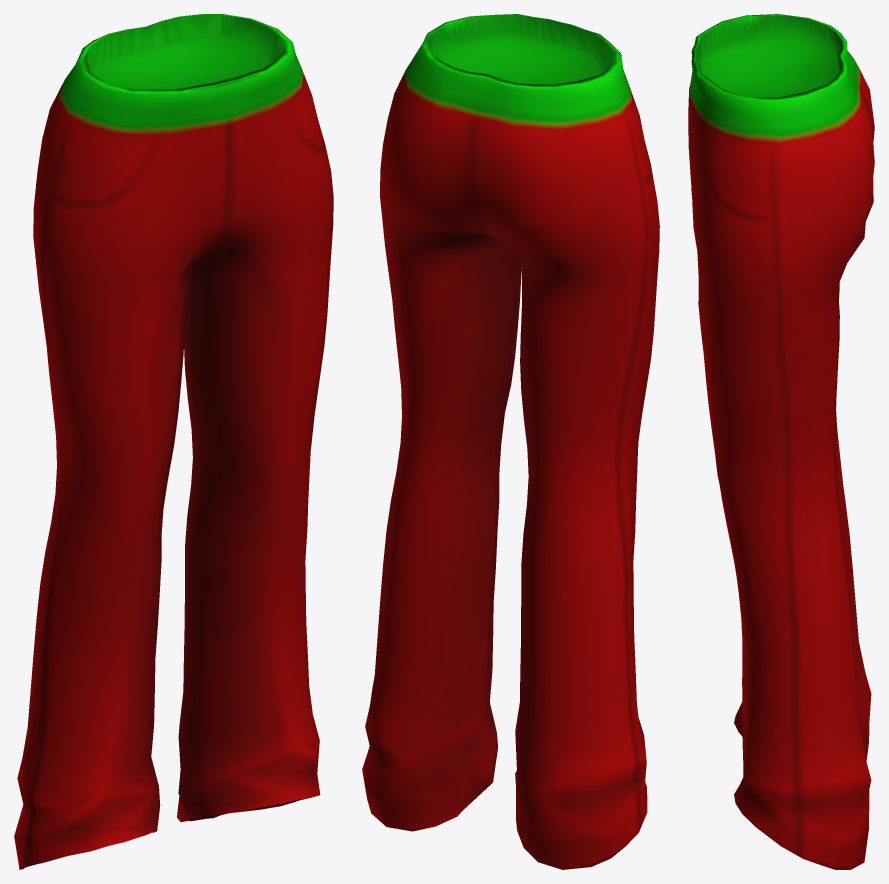
File: Bottom_HealthCareSlacks.obj
3 renders of one model, left to right at view 1: azimuth 30°, elevation 25°; view 2: azimuth 150°, elevation 25°; view 3: azimuth 270°, elevation 25°, orthographic. The views are drawn at different scales.
Parts seen in each view (by area): view 1: Bottom_HealthCareSlacks_0; view 2: Bottom_HealthCareSlacks_0; view 3: Bottom_HealthCareSlacks_0.
Part boxes in pixels (<box>): Bottom_HealthCareSlacks_0: <box>14,14,333,869</box>; Bottom_HealthCareSlacks_0: <box>362,14,659,869</box>; Bottom_HealthCareSlacks_0: <box>688,14,874,869</box>.
Size of the model in its own units: 0.382 by 1.05 by 0.231.
1 material, 1 textured.
